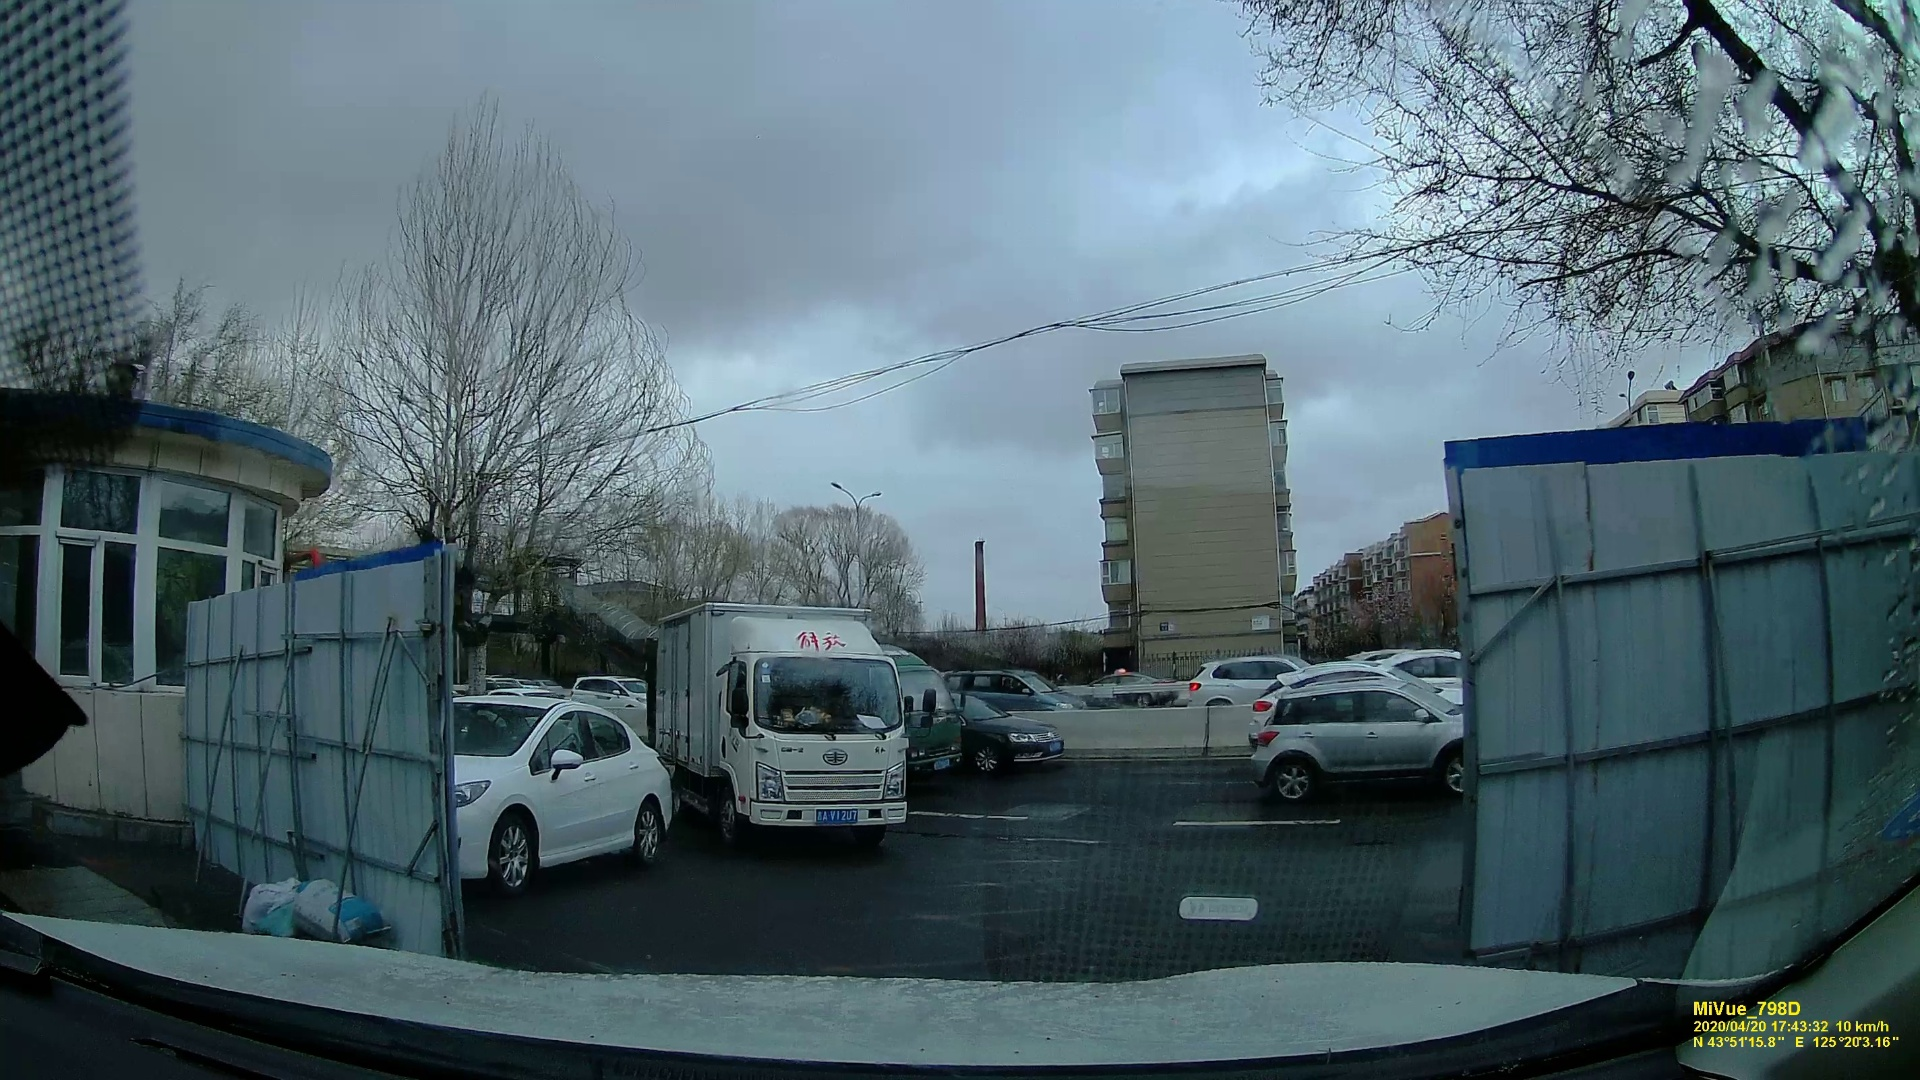minibus: (949, 667, 1077, 713)
truck: (657, 607, 914, 860), (876, 637, 960, 793)
vehicle: (438, 683, 665, 889), (1251, 686, 1472, 799), (956, 702, 1065, 775), (1187, 654, 1312, 709)
